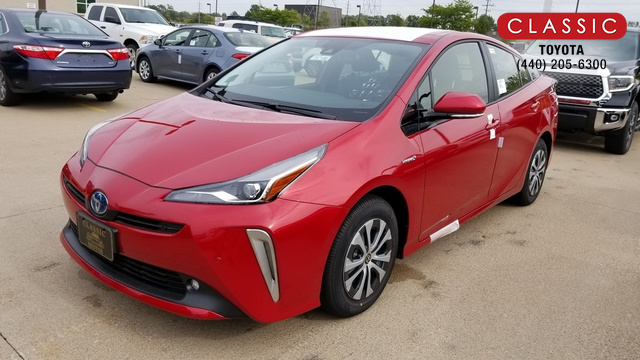Toyota Prius: (59, 27, 560, 324)
